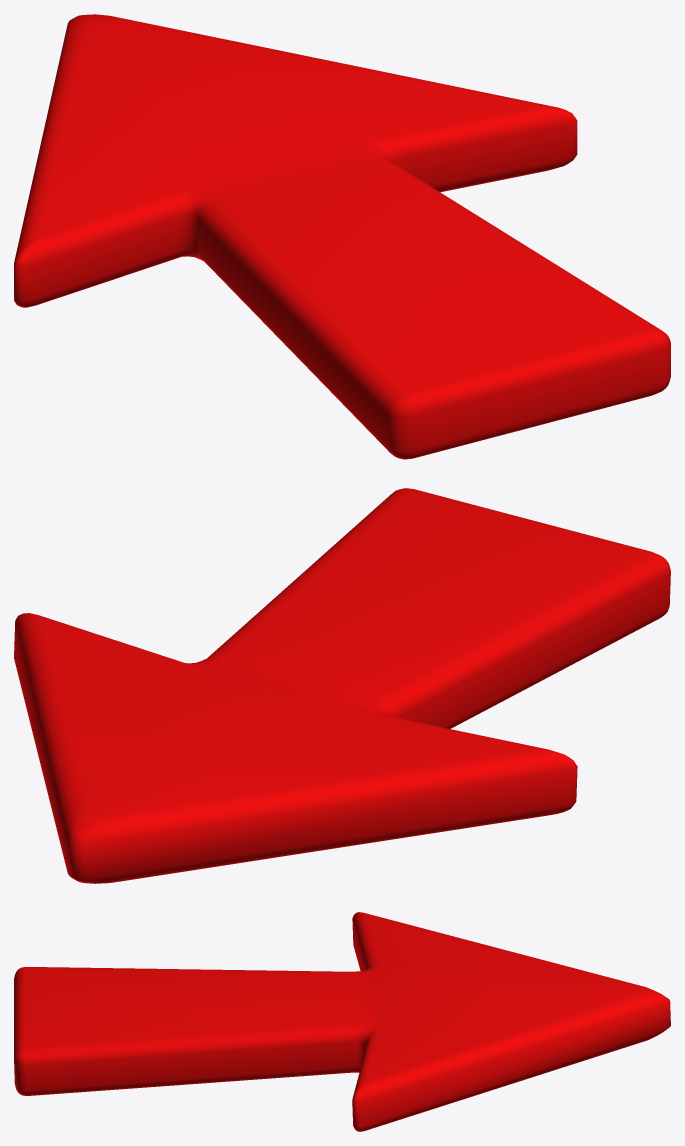
The model's file is arrow.glb.
The picture shows the model from 3 angles, top to bottom: view 1: azimuth 30°, elevation 25°; view 2: azimuth 150°, elevation 25°; view 3: azimuth 270°, elevation 25°; orthographic projection. The views are drawn at different scales.
Parts seen in each view (by area): view 1: node_id8; view 2: node_id8; view 3: node_id8.
Boxes of the visible parts, x1,y1,x2,y2 form: node_id8: [14, 14, 670, 459]; node_id8: [14, 488, 670, 883]; node_id8: [14, 912, 670, 1131].
Size of the model in its own units: 0.3592 by 0.0562 by 0.5124.
Materials: 1 (1 with a texture image).
